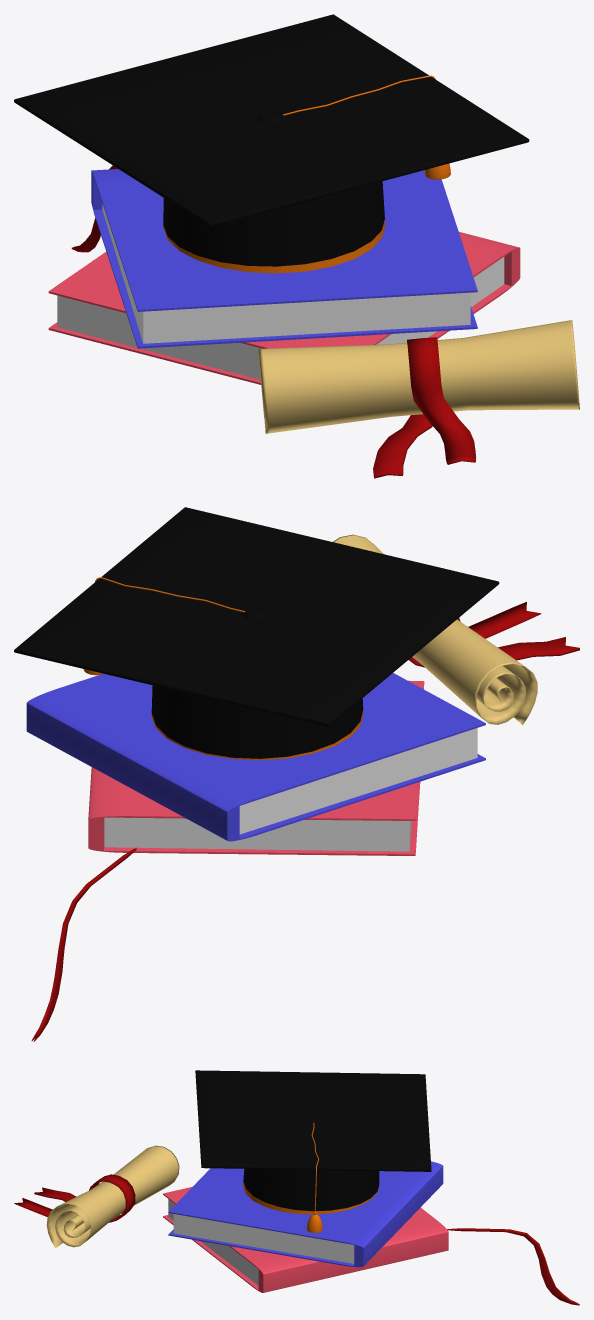
The model's file is graduation_change.glb.
3 renders of one model, top to bottom at view 1: azimuth 30°, elevation 25°; view 2: azimuth 150°, elevation 25°; view 3: azimuth 270°, elevation 25°, orthographic. The views are drawn at different scales.
Visible parts, largest first — view 1: Cube_2, Cube.001, Object_7, Cube, Object_6; view 2: Cube_2, Cube.001, Cube, Object_7, Object_6, Object_9; view 3: Cube_2, Cube.001, Cube, Object_7, Object_6, Object_9.
Part boxes in pixels (x1=…): Cube_2: x1=14, y1=14, x2=529, y2=273; Cube.001: x1=91, y1=169, x2=477, y2=348; Object_7: x1=258, y1=320, x2=579, y2=433; Cube: x1=48, y1=232, x2=520, y2=384; Object_6: x1=373, y1=337, x2=476, y2=478; Cube_2: x1=14, y1=507, x2=499, y2=760; Cube.001: x1=26, y1=673, x2=485, y2=841; Cube: x1=88, y1=680, x2=424, y2=855; Object_7: x1=333, y1=534, x2=537, y2=724; Object_6: x1=409, y1=602, x2=579, y2=667; Object_9: x1=31, y1=848, x2=136, y2=1041; Cube_2: x1=195, y1=1070, x2=431, y2=1214; Cube.001: x1=168, y1=1161, x2=443, y2=1267; Cube: x1=163, y1=1186, x2=448, y2=1292; Object_7: x1=46, y1=1145, x2=179, y2=1248; Object_6: x1=14, y1=1174, x2=135, y2=1222; Object_9: x1=447, y1=1228, x2=579, y2=1305.
Size of the model in its own units: 14.92 by 10.6 by 29.56.
